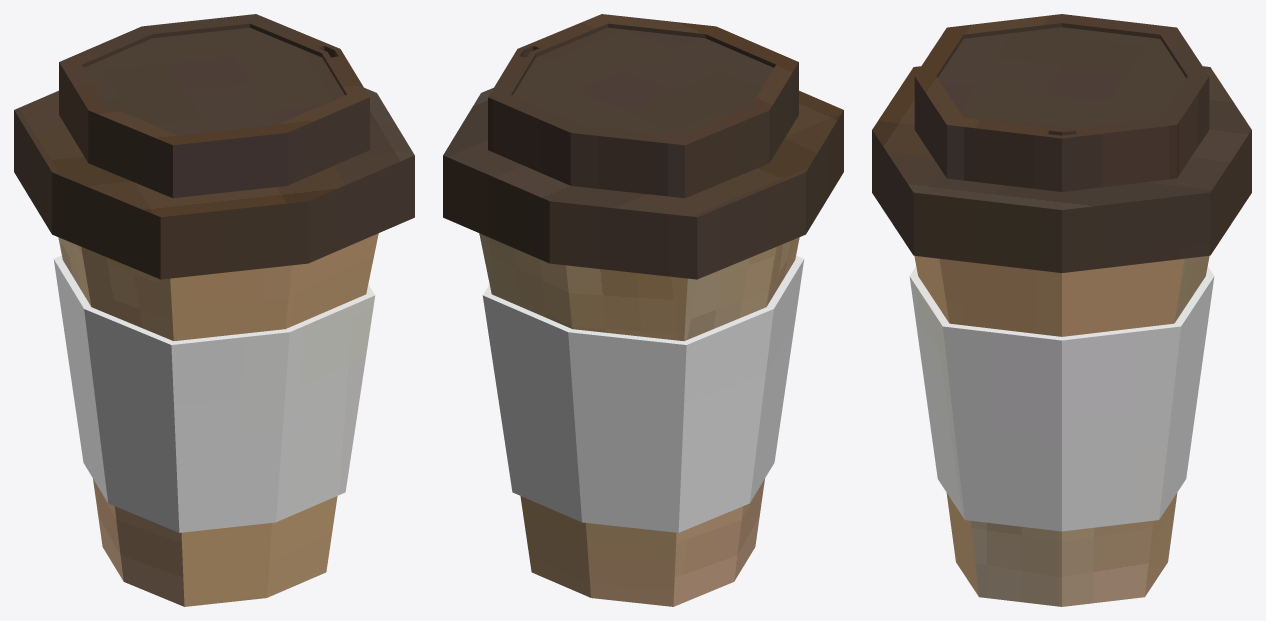
File: coffee_cup-transformed.glb
The picture shows the model from 3 angles, left to right: view 1: azimuth 30°, elevation 25°; view 2: azimuth 150°, elevation 25°; view 3: azimuth 270°, elevation 25°; orthographic projection.
Parts seen in each view (by area): view 1: Cube_Cube.022; view 2: Cube_Cube.022; view 3: Cube_Cube.022.
Boxes of the visible parts, <box> form: Cube_Cube.022: <box>14,14,414,606</box>; Cube_Cube.022: <box>443,14,843,606</box>; Cube_Cube.022: <box>872,14,1251,606</box>.
Bounding box in the file's own units: 0.6813 × 0.9619 × 0.6813.
Materials: 1 (1 with a texture image).
